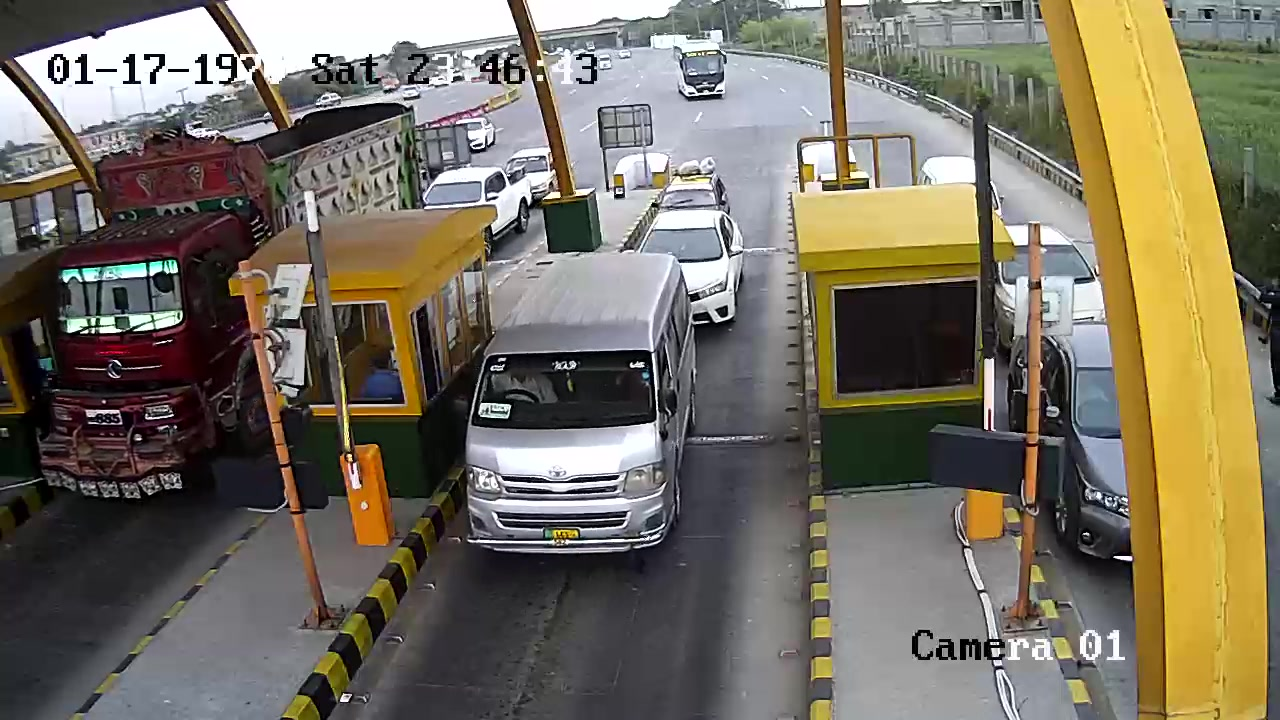F3: (452, 242, 696, 574)
